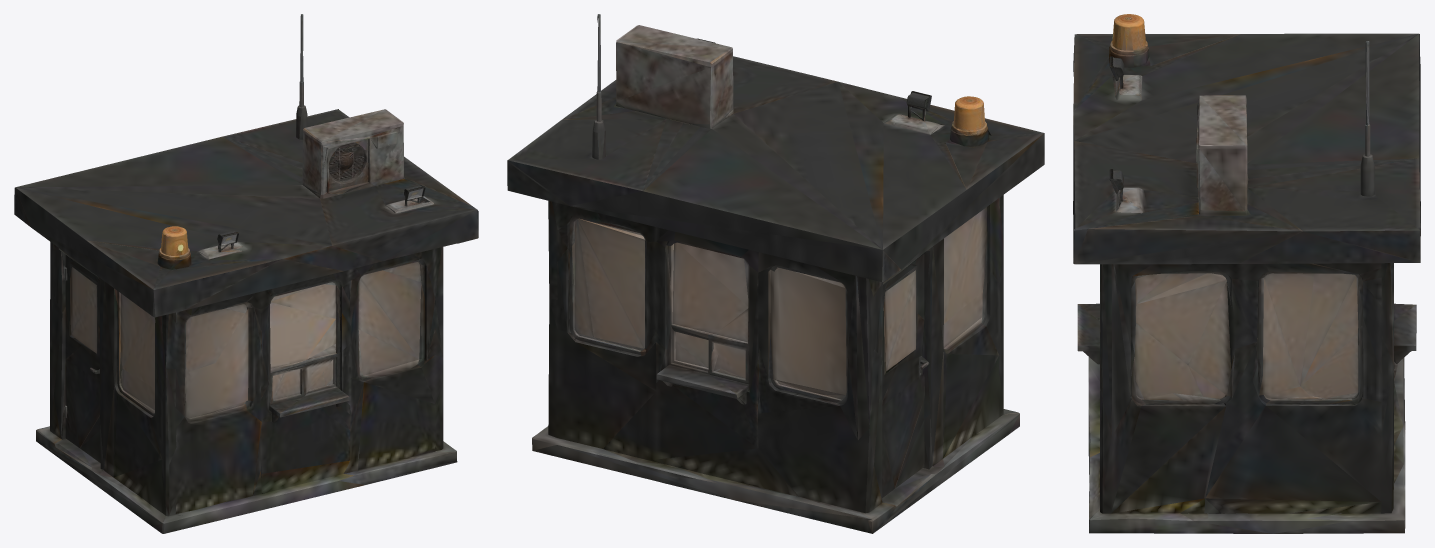
Rendered from ncz-customs-booth.glb.
3 views of the same model, side by side, from view 1: azimuth 30°, elevation 25°; view 2: azimuth 150°, elevation 25°; view 3: azimuth 270°, elevation 25° (orthographic). The views are drawn at different scales.
Parts seen in each view (by area): view 1: output_unwrapped; view 2: output_unwrapped; view 3: output_unwrapped.
Part boxes in pixels (bbox=[...]): output_unwrapped: bbox=[14, 14, 478, 533]; output_unwrapped: bbox=[507, 14, 1044, 533]; output_unwrapped: bbox=[1073, 14, 1420, 533].
Bounding box in the file's own units: 1.72 × 1.9 × 1.28.
Materials: 1 (1 with a texture image).
